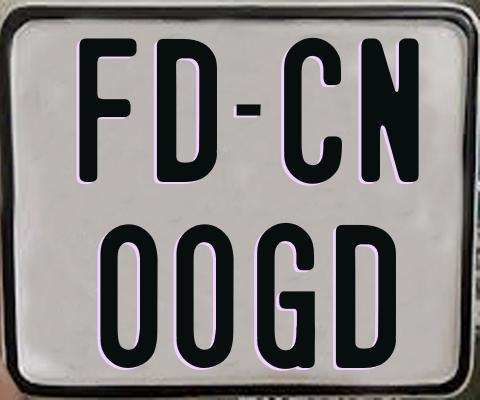0: (176, 222, 240, 372), (99, 221, 161, 367)
C: (283, 36, 346, 185)
D: (335, 223, 401, 371), (156, 36, 219, 179)
F: (79, 38, 141, 186)
G: (254, 221, 315, 372)
N: (358, 38, 419, 183)
